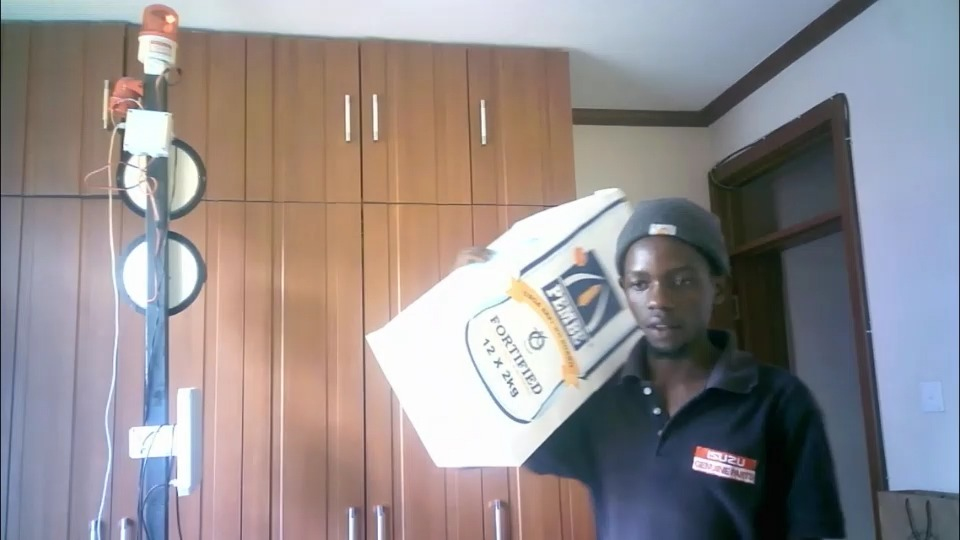wheat_flour_blue_label: (370, 179, 667, 469)
